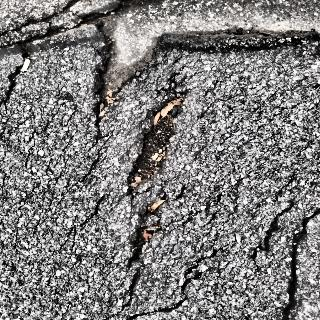crack: (122, 93, 184, 313), (253, 180, 316, 320), (3, 3, 65, 113)
pothole: (72, 0, 317, 80)
